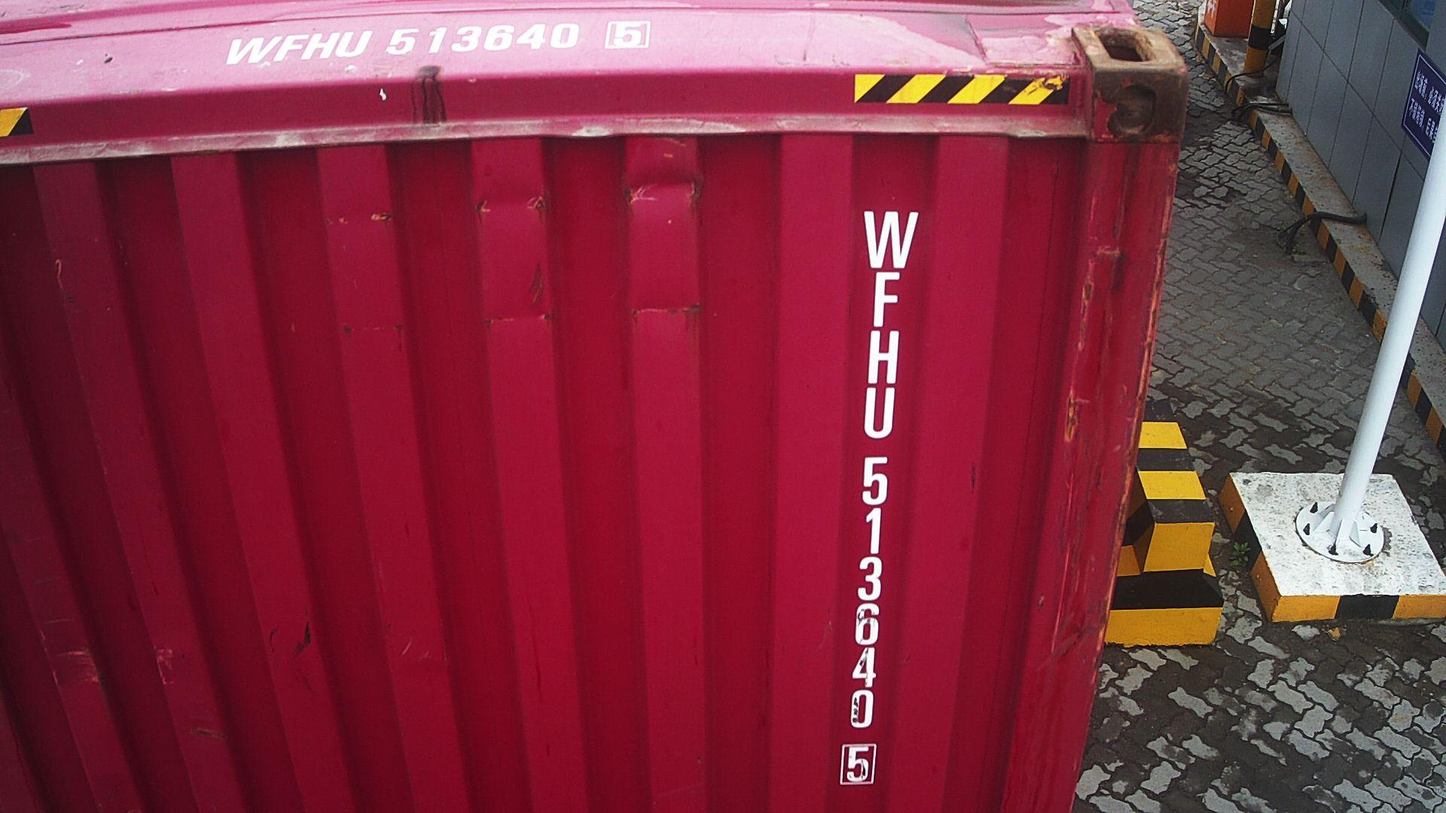container-numbers: (836, 203, 925, 792), (212, 19, 659, 69)
